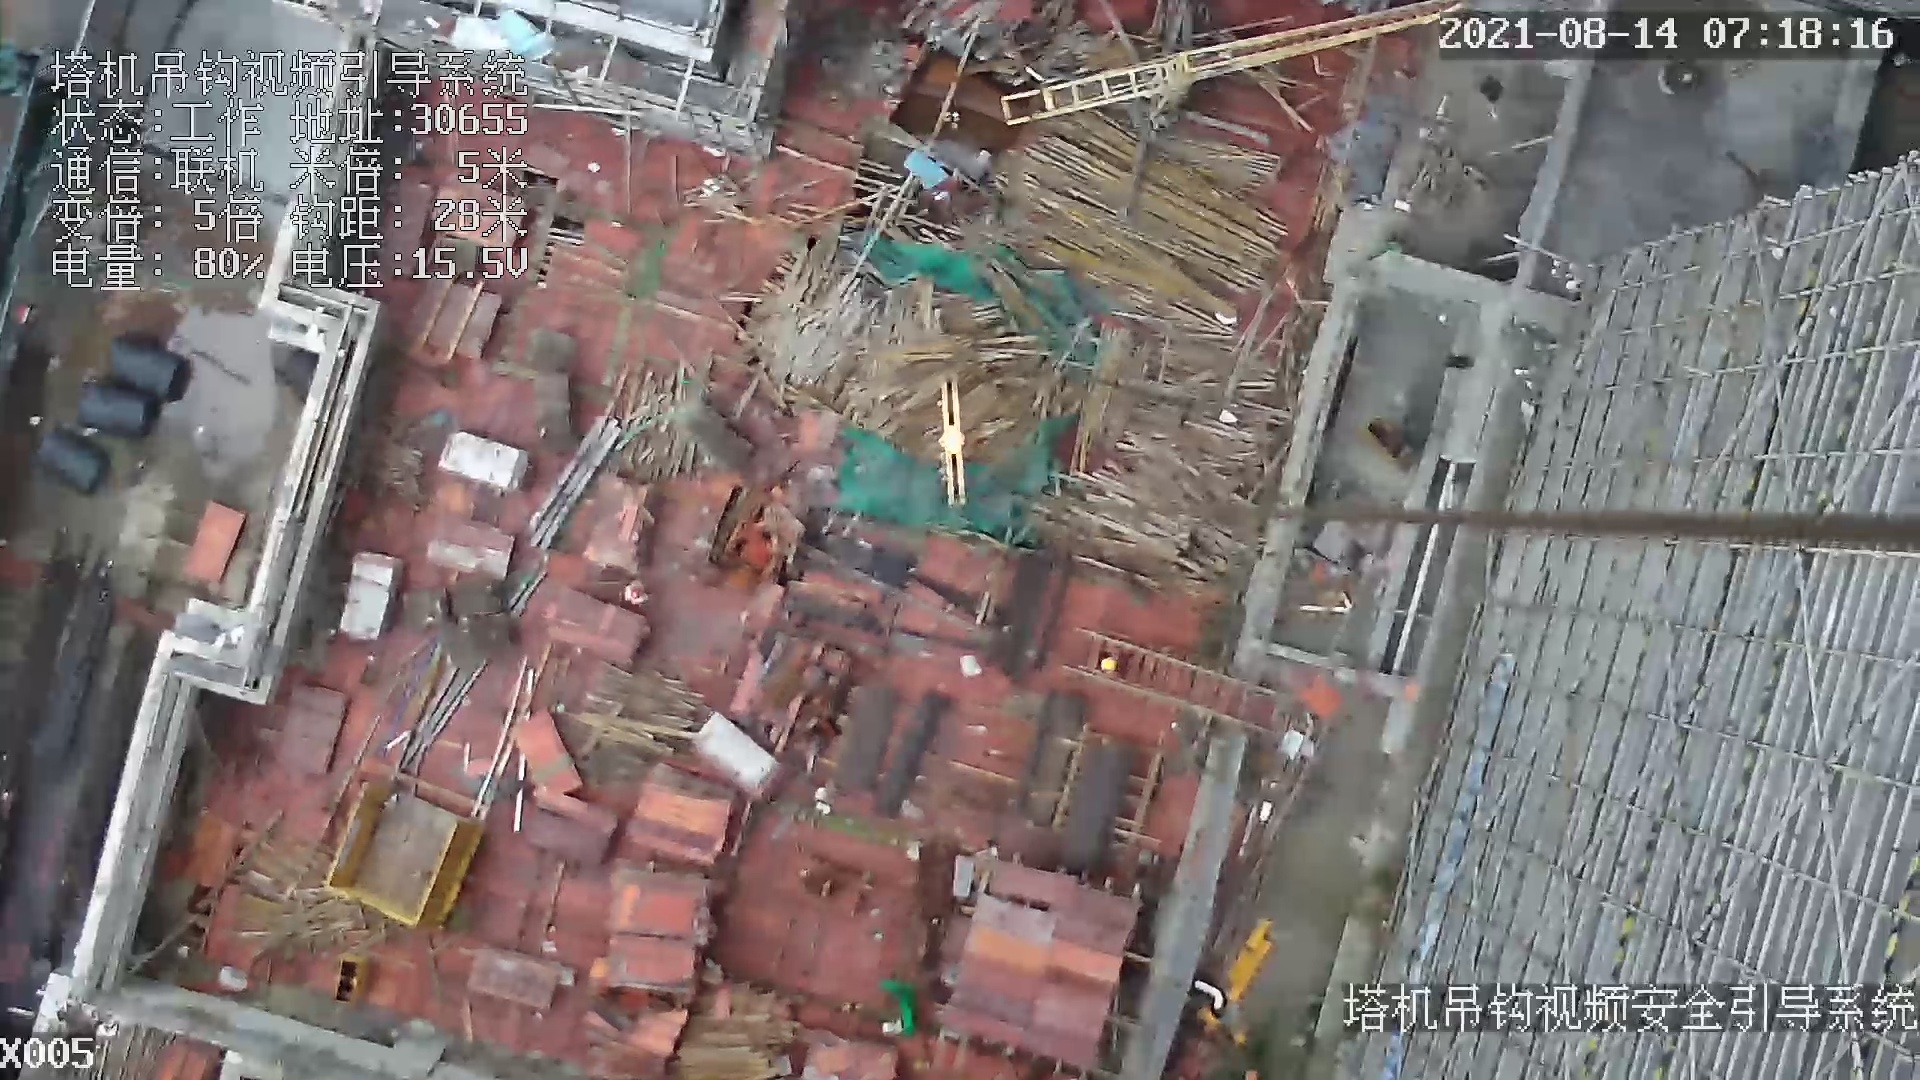hook: (915, 369, 979, 513)
person: (626, 580, 651, 610)
